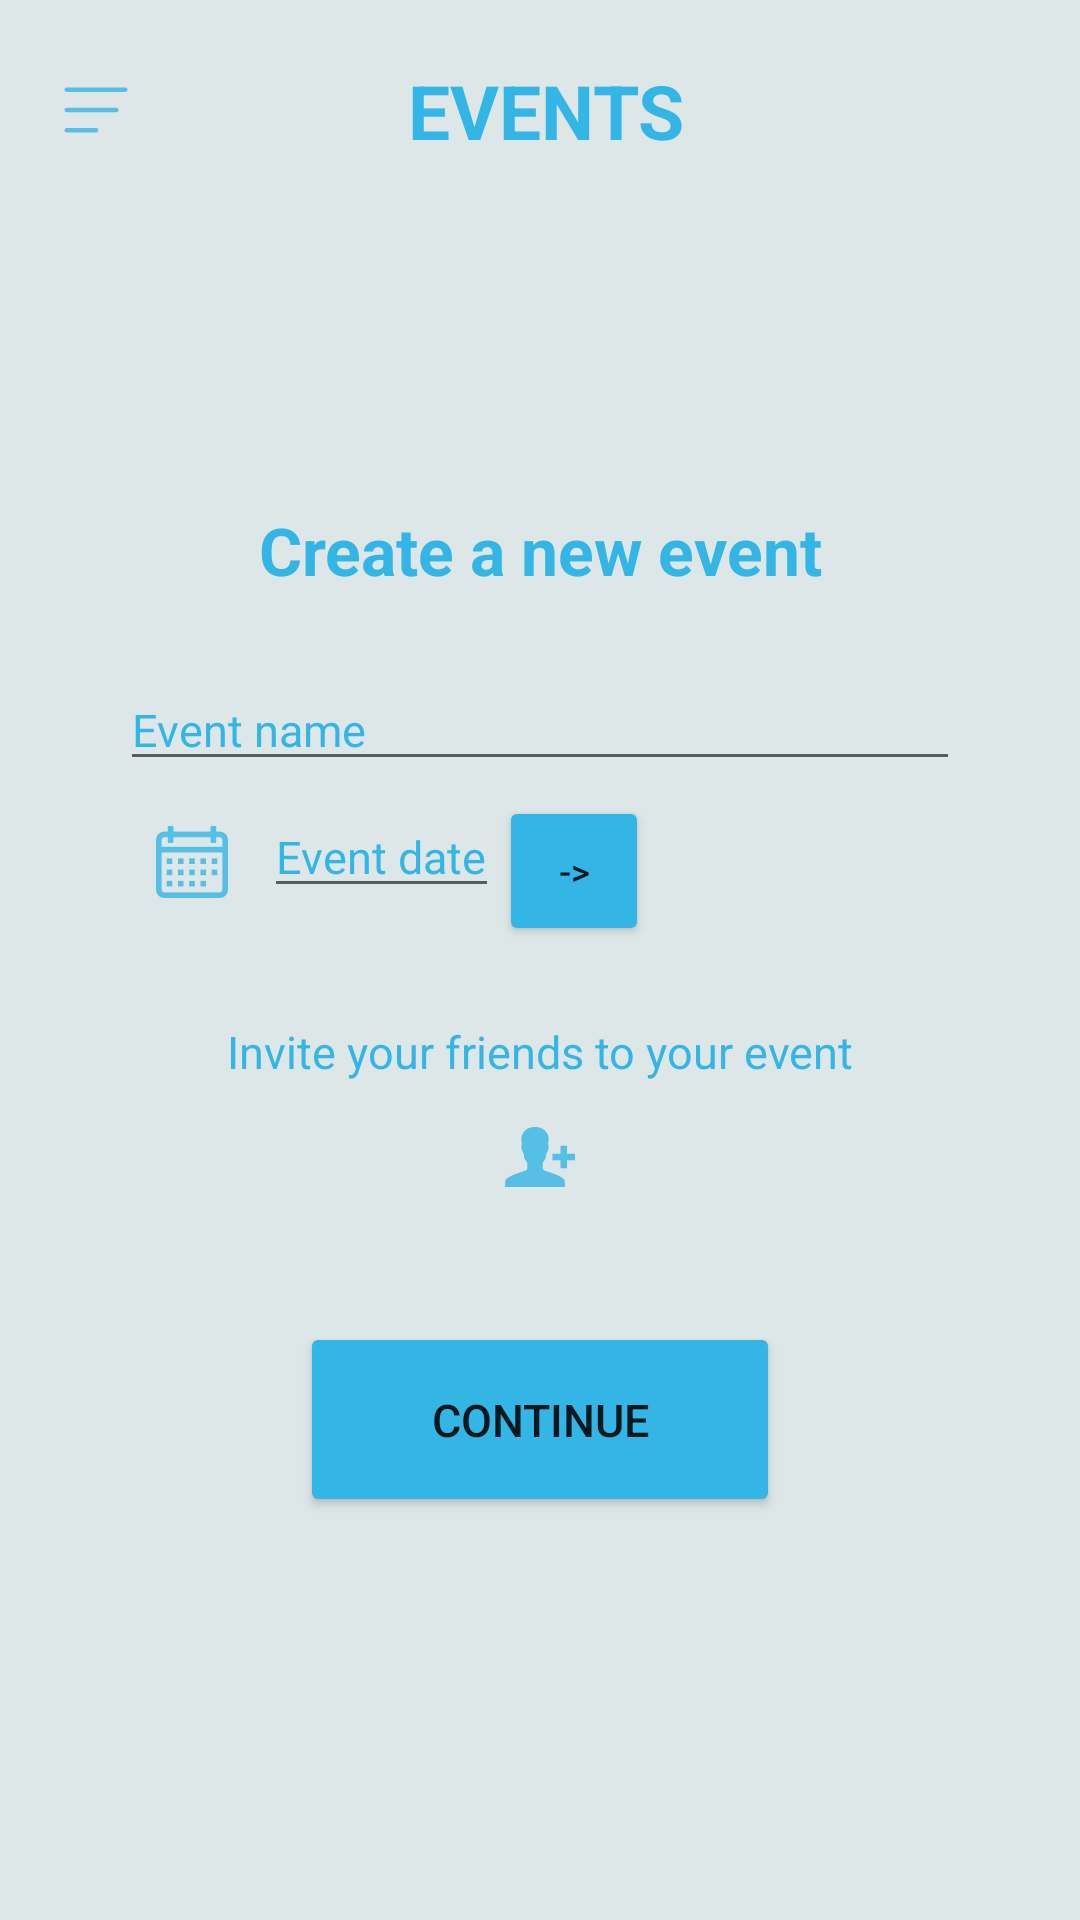

Icons on this 1080*1920 Android screen, each with its box as [x1,y1,x2,y2]:
addcontact: [505,1127,575,1187]
calendar: [156,826,228,898]
